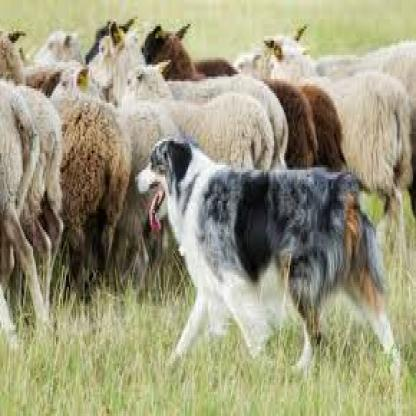dog: (132, 136, 402, 371)
